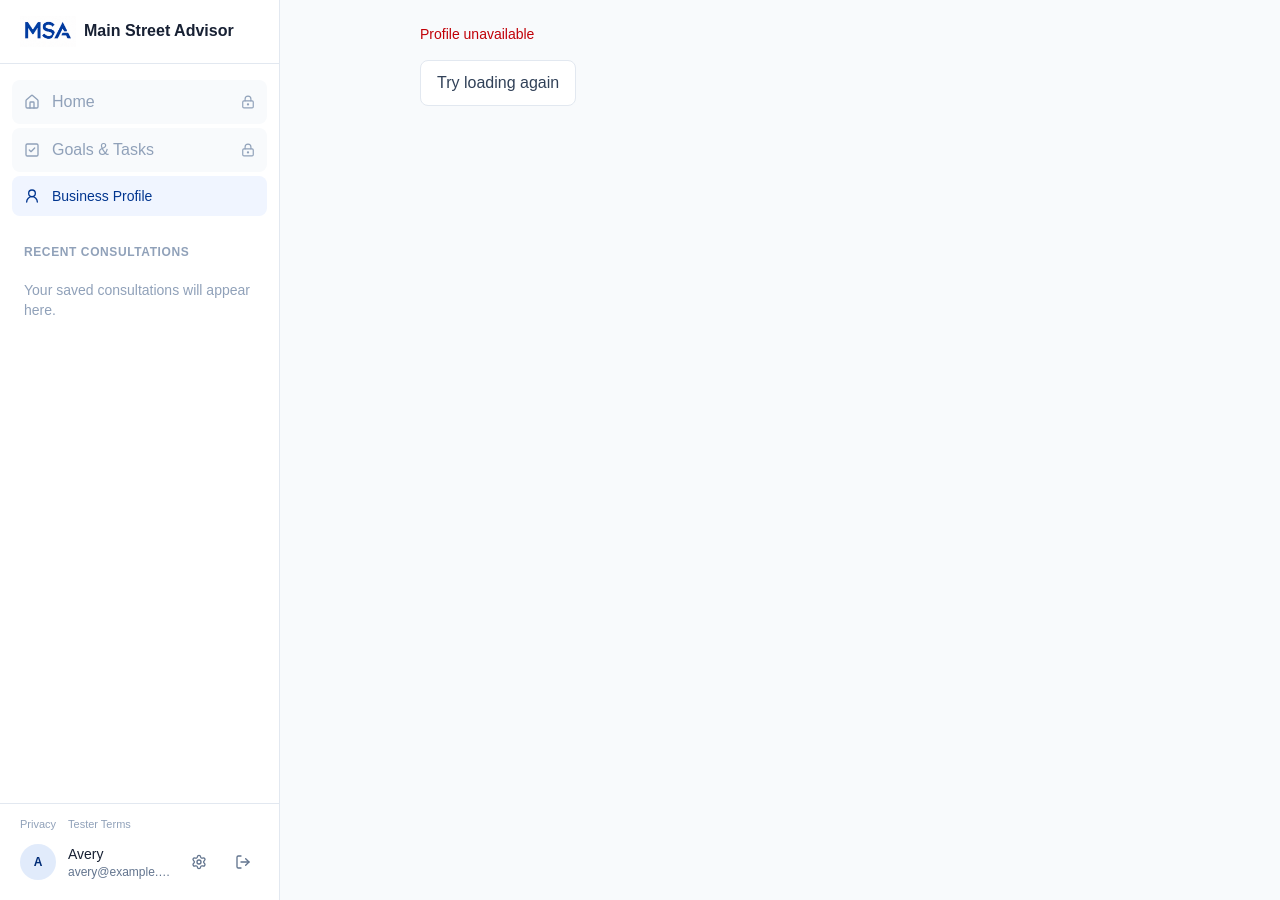
it: required profile setup › preserves the stored profile when loading fails and offers a retry
The image size is (1280, 900).
Expected: the text "Profile unavailable" is shown, [420,26,534,42]
Expected: the field labelled "Business name" is not shown
Click the button "Try loading again": (498, 83) [420,60,576,106]
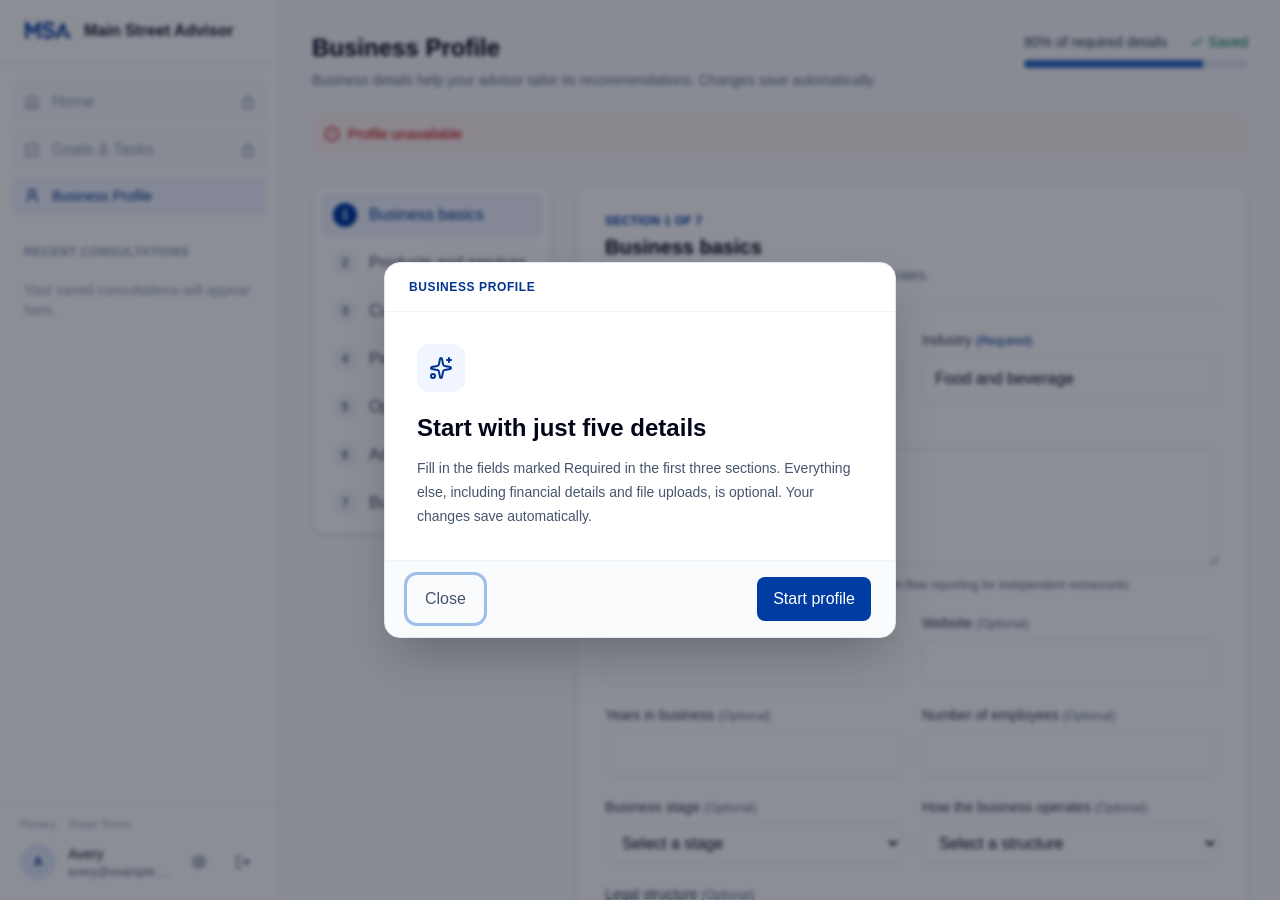
Expected: the field labelled "Business name (Required)" holds "Northstar Coffee", [605,356,902,402]
